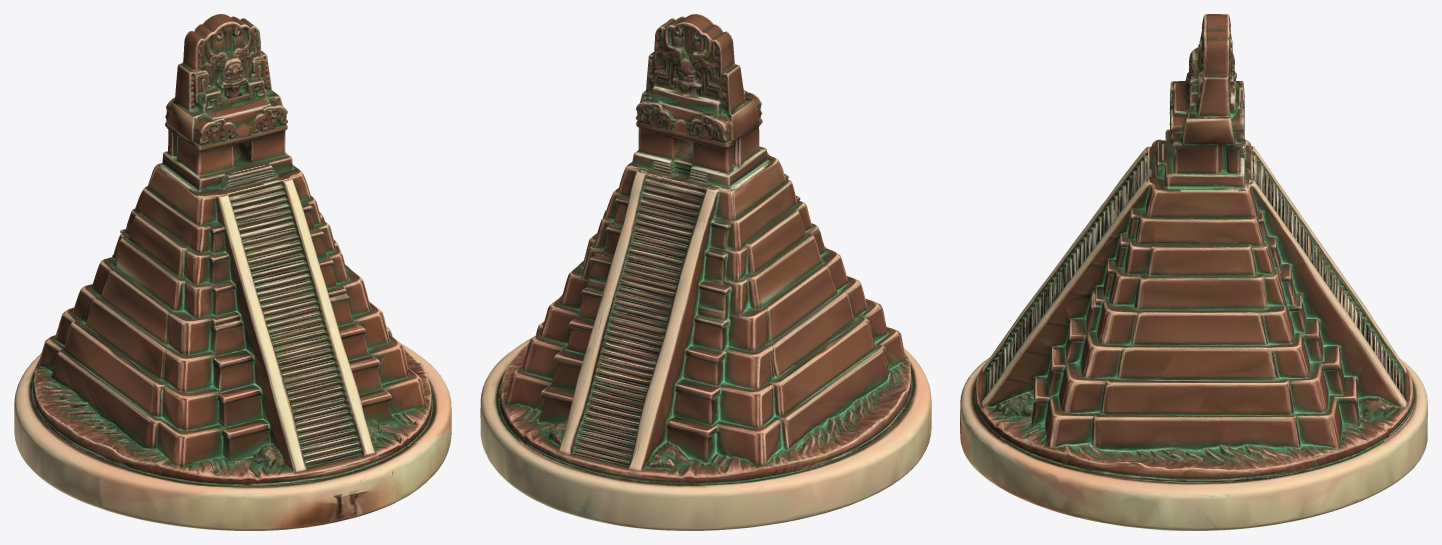
The model's file is tikal.glb.
3 views of the same model, side by side, from view 1: azimuth 30°, elevation 25°; view 2: azimuth 150°, elevation 25°; view 3: azimuth 270°, elevation 25° (orthographic). The views are drawn at different scales.
Parts seen in each view (by area): view 1: Mesh_0; view 2: Mesh_0; view 3: Mesh_0.
Boxes of the visible parts, box(x1,y1,x2,y2) form: Mesh_0: box(14, 14, 451, 530); Mesh_0: box(480, 14, 931, 530); Mesh_0: box(960, 14, 1427, 530).
Bounding box in the file's own units: 1.83 × 1.91 × 1.91.
Materials: 1 (1 with a texture image).
